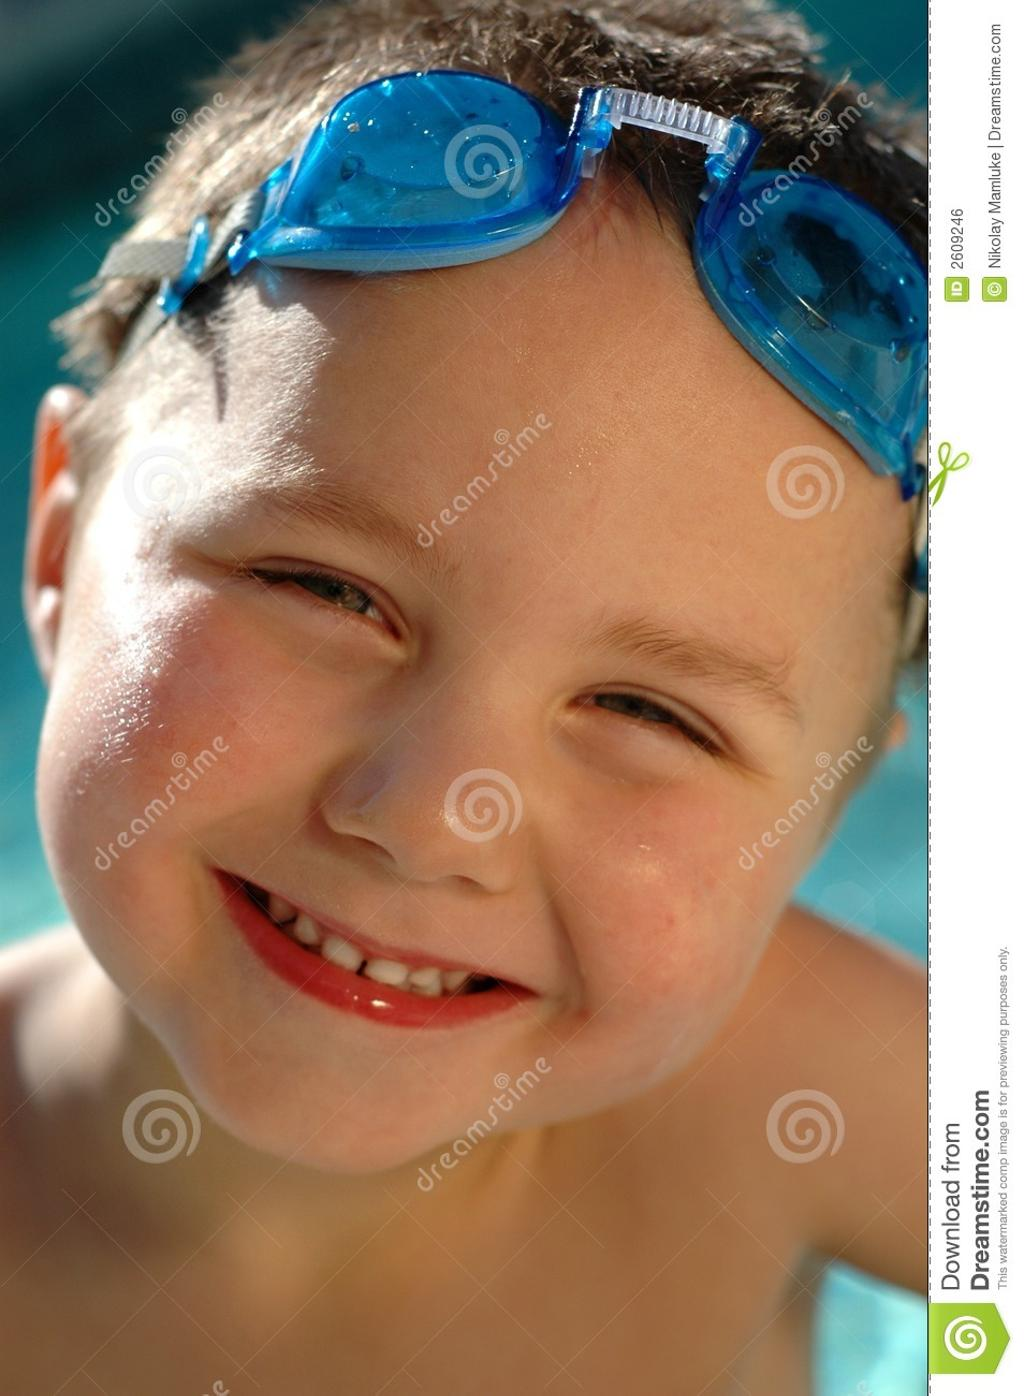face: (87, 324, 795, 1155)
